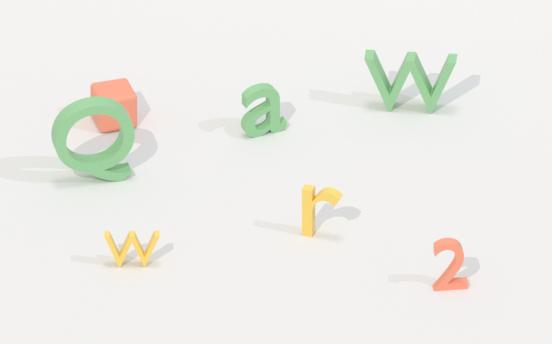2: (430, 233, 470, 294)
R: (299, 182, 343, 241)
a: (238, 81, 288, 139)
hop: (86, 74, 143, 134)
q: (49, 96, 138, 187)
w: (362, 46, 461, 115), (102, 227, 164, 269)
